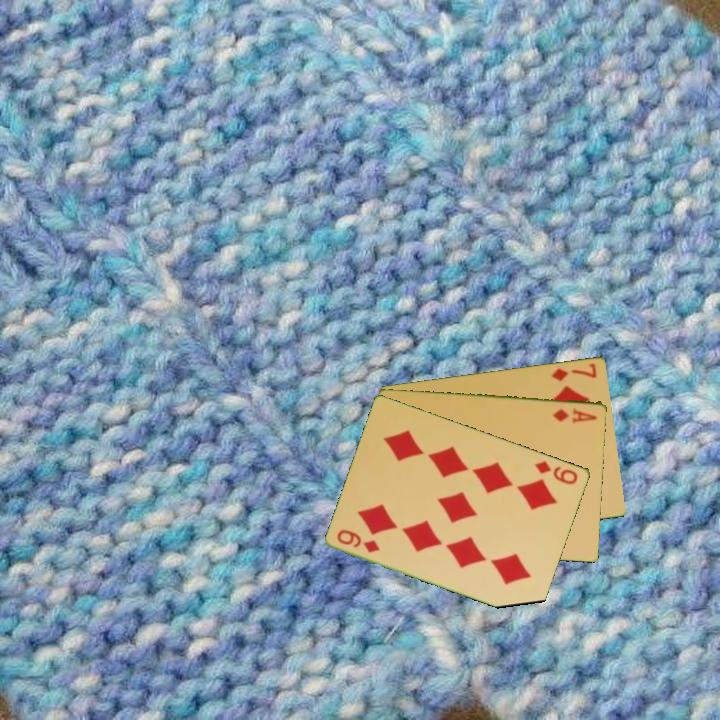7d: (548, 359, 600, 384)
9d: (531, 457, 581, 487), (334, 526, 383, 556)
Ad: (549, 405, 600, 425)
